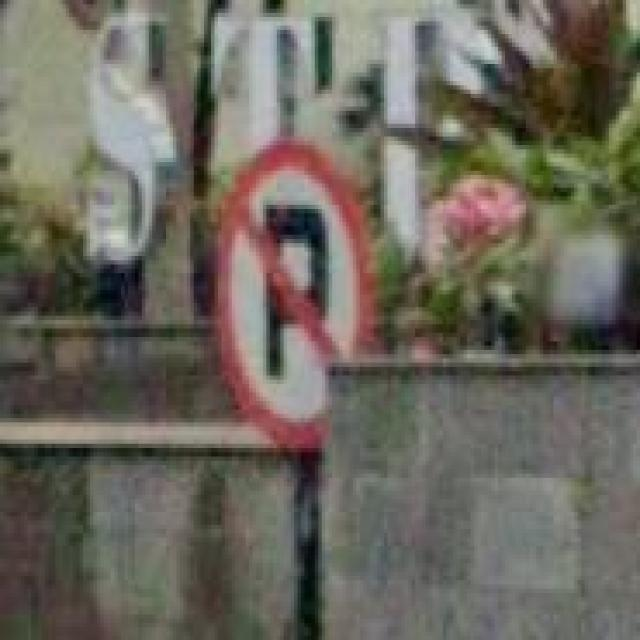traffic sign: (218, 141, 380, 452)
